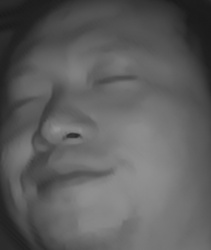blink: (90, 68, 138, 92), (6, 91, 39, 114)
mouth: (25, 152, 118, 202)
